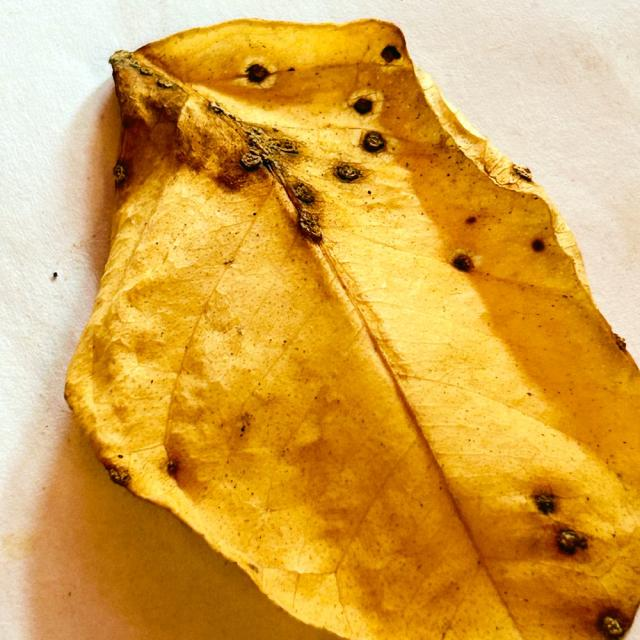DryLeaf_Lemon: (65, 20, 639, 639)
